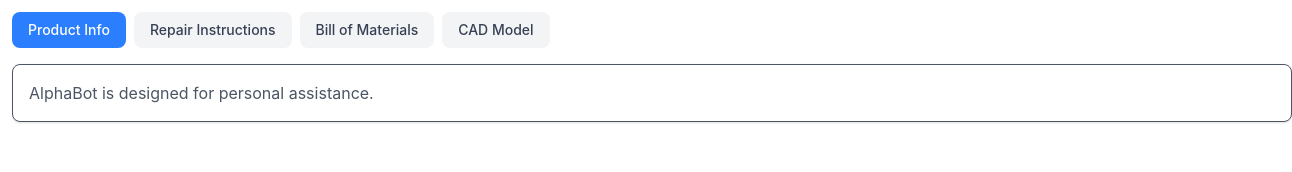
Test case: Tabs Component › displays Repair Instructions when the corresponding tab is clicked
This screenshot has width=1292, height=172.
Note: Click on the Repair Instructions tab
Click the button "Repair Instructions" at (213, 30), box [134,12,292,48]
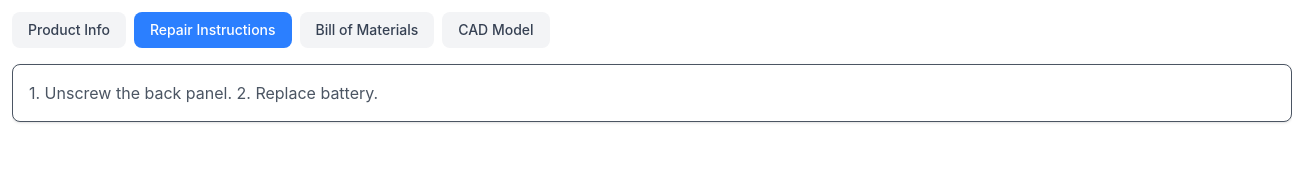
Expected: the text "1. Unscrew the back panel. 2. Replace battery." is shown, [29,83,378,103]
